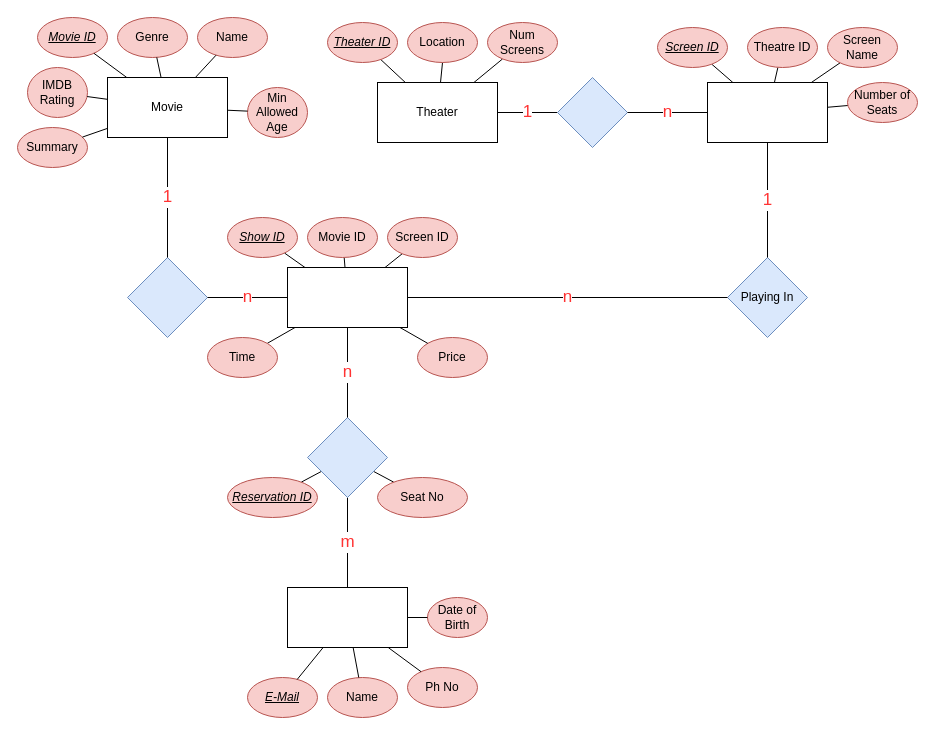
This 935x735 diagram has some shape labels left out. The shapes that lost their labels are listed below. From the top down, each one's centre as x and y in pixels, then its label:
At pixel 592 112: "Present In".
At pixel 767 112: "Screen".
At pixel 167 297: "Showing".
At pixel 347 297: "Show".
At pixel 347 457: "Reserves".
At pixel 347 617: "User".
